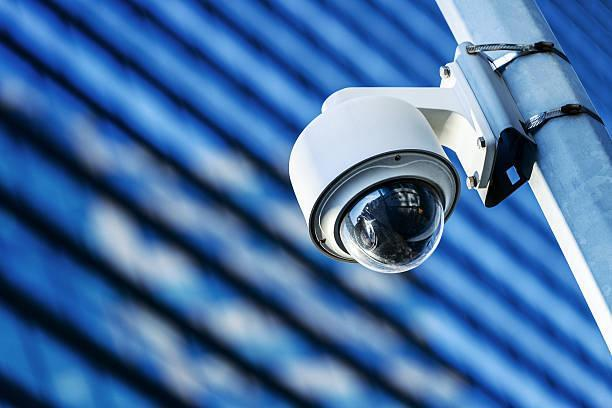360-Cam: (280, 88, 473, 284)
